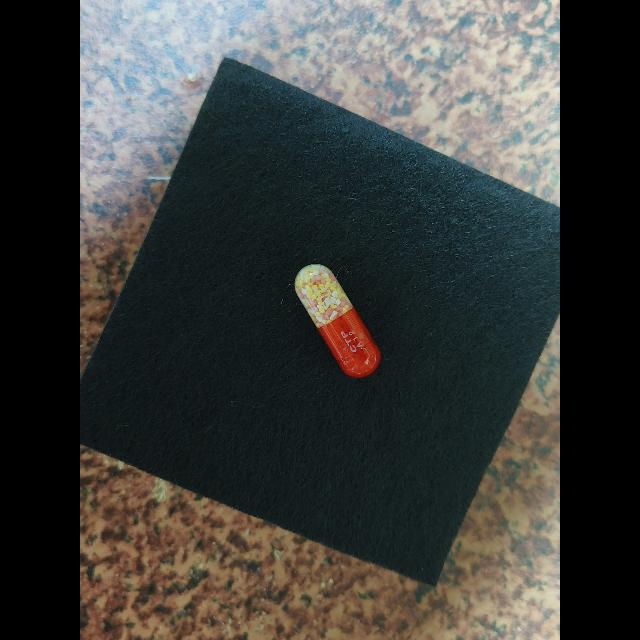Intact Capsule: (295, 264, 381, 377)
